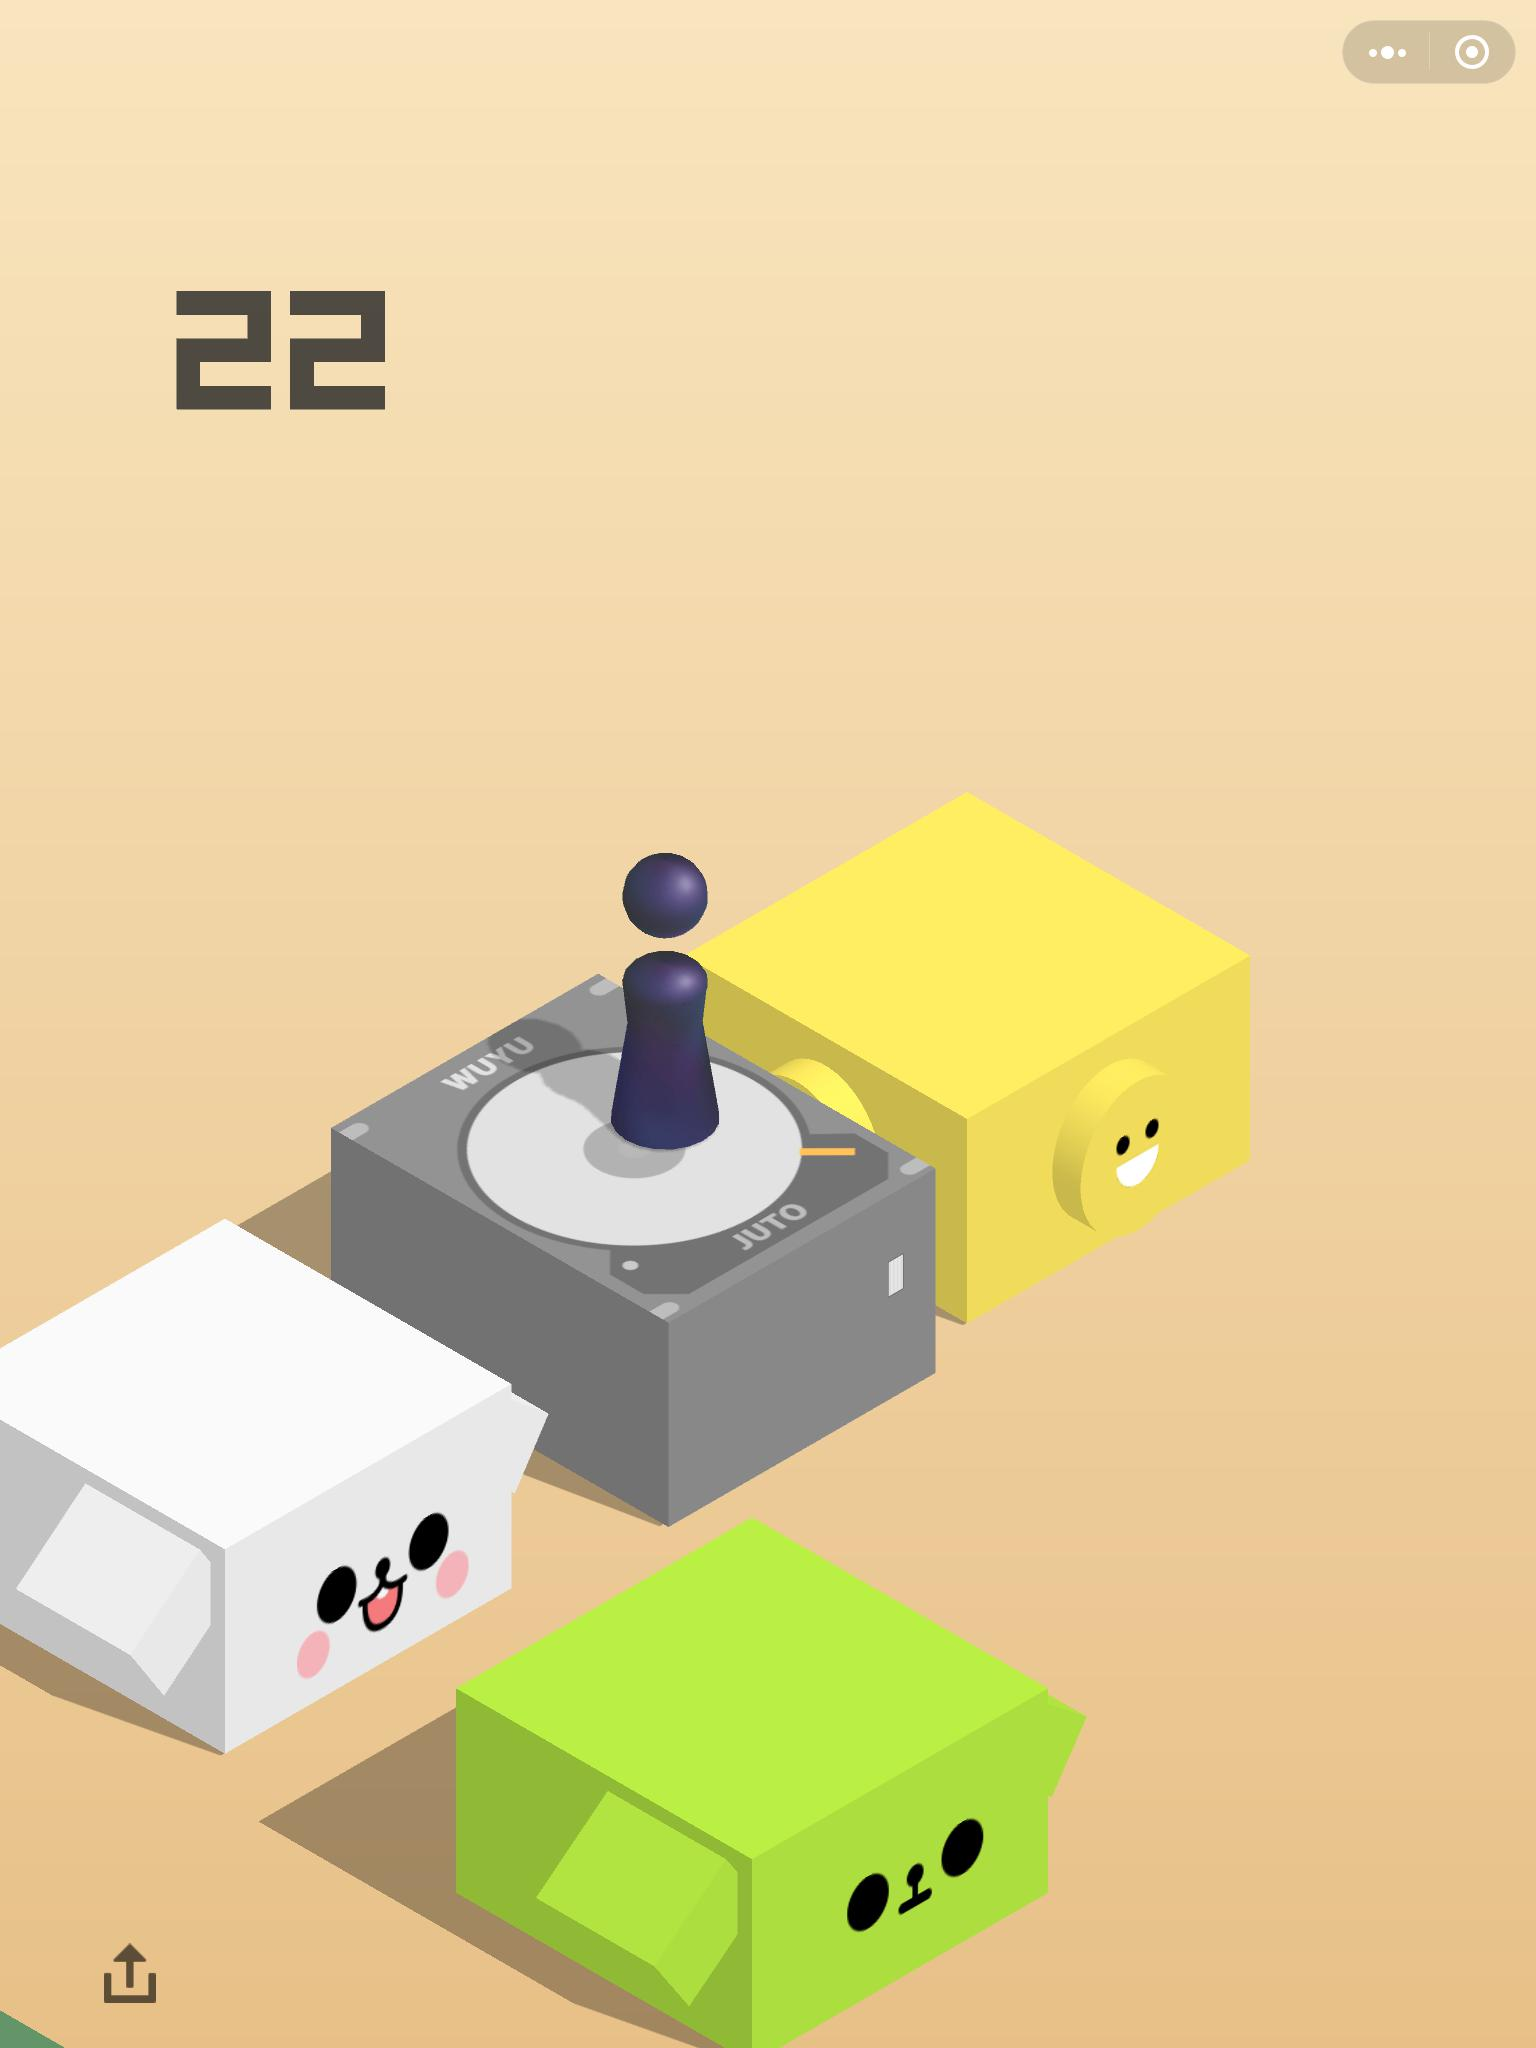f: (415, 1506, 1094, 2048), (323, 963, 945, 1532), (662, 763, 1262, 1332), (6, 1203, 555, 1767)
r: (595, 826, 741, 1156)
